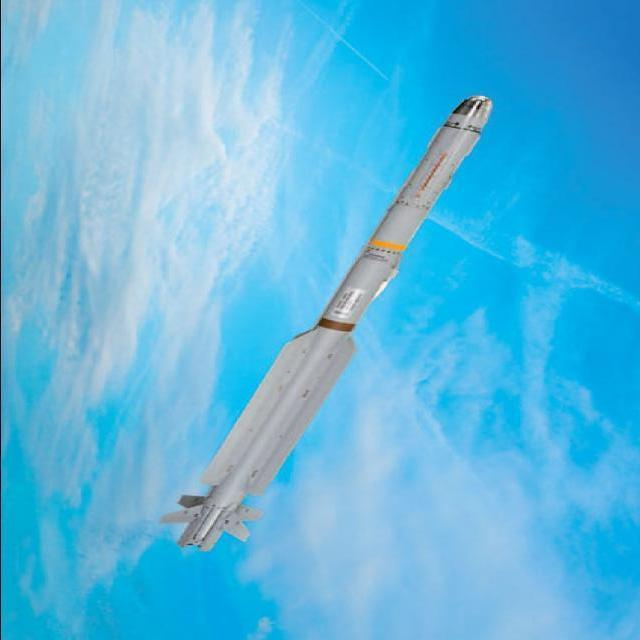missile: (157, 90, 496, 554)
